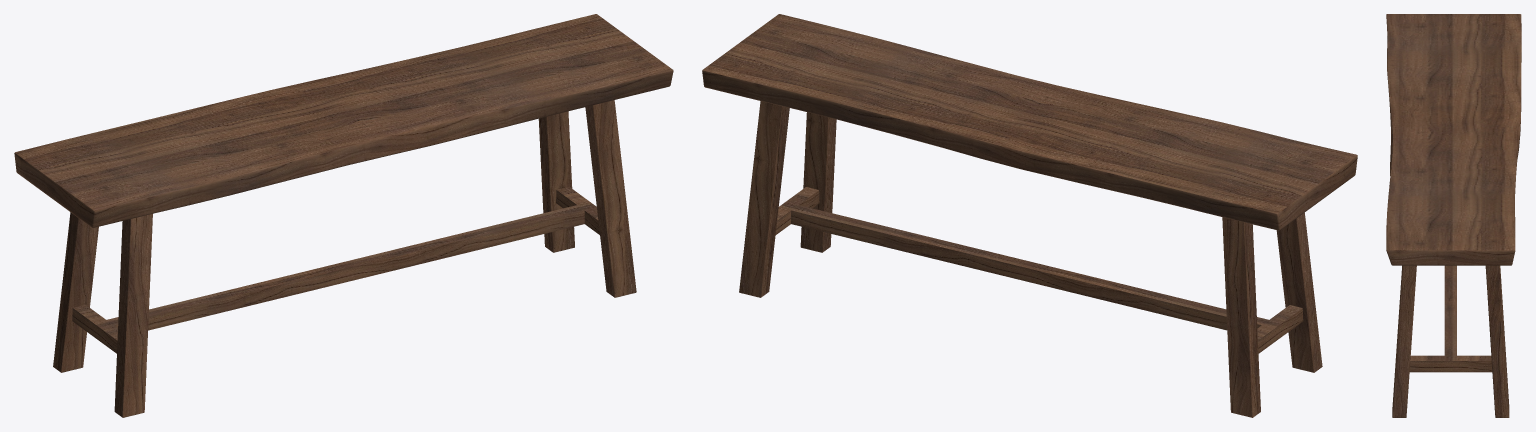
The picture shows the model from 3 angles, left to right: view 1: azimuth 30°, elevation 25°; view 2: azimuth 150°, elevation 25°; view 3: azimuth 270°, elevation 25°; orthographic projection. The views are drawn at different scales.
Parts seen in each view (by area): view 1: Obj3d66-12230569-9-972; view 2: Obj3d66-12230569-9-972; view 3: Obj3d66-12230569-9-972.
Boxes of the visible parts, x1,y1,x2,y2 form: Obj3d66-12230569-9-972: (14, 14, 673, 417); Obj3d66-12230569-9-972: (702, 14, 1357, 417); Obj3d66-12230569-9-972: (1386, 14, 1521, 417).
Bounding box in the file's own units: 1231 × 441 × 298.
1 material, 1 textured.
